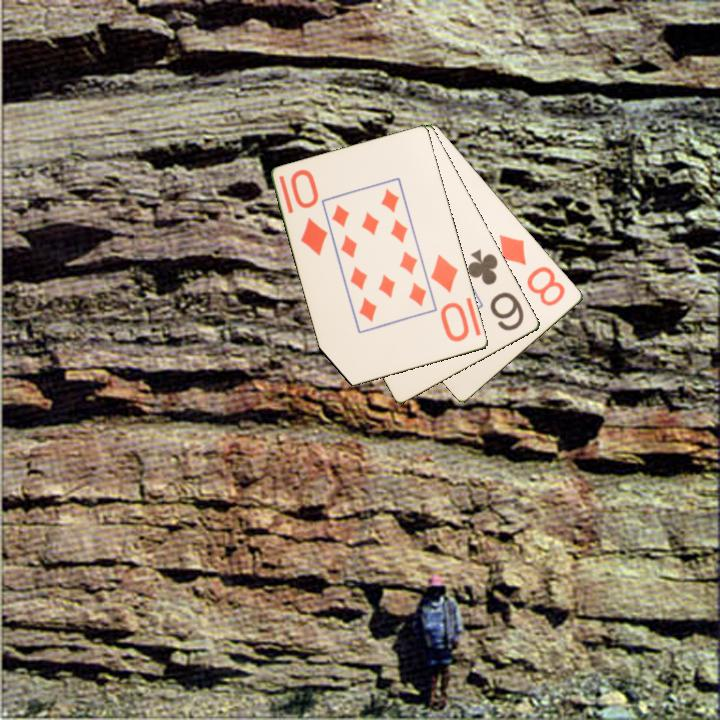10d: (427, 251, 473, 345), (287, 166, 331, 259)
6c: (464, 246, 527, 334)
8d: (496, 231, 569, 309)
